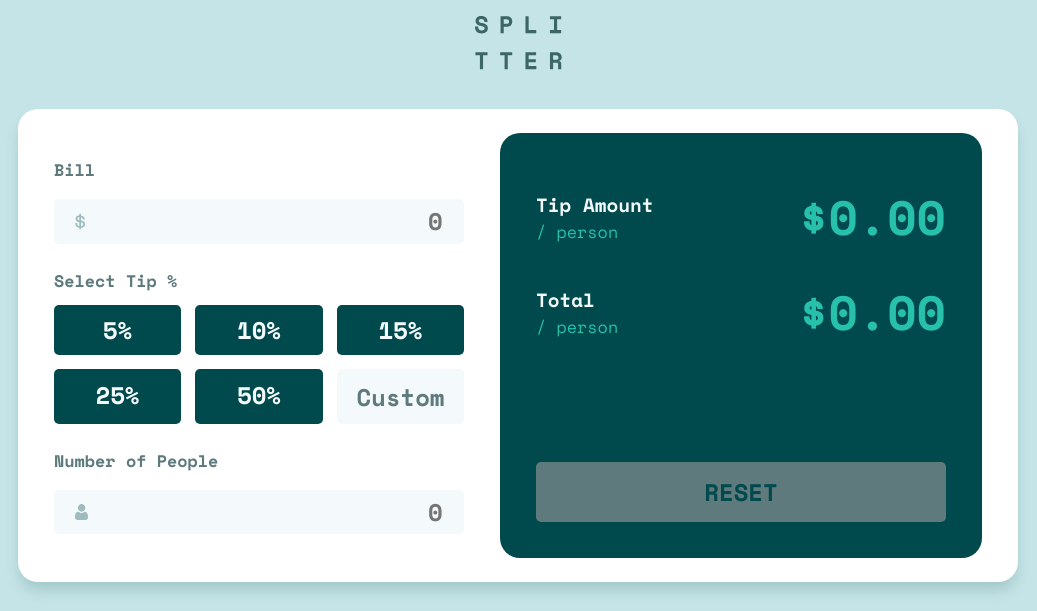
App › should return $12.50 for Tip Amount and $62.50 for Total when bill is $100, tip is 25%, and people is 2
Type "100" into the number field labelled "Bill". click: (270, 221)
box: x1=98 y1=203 x2=443 y2=239
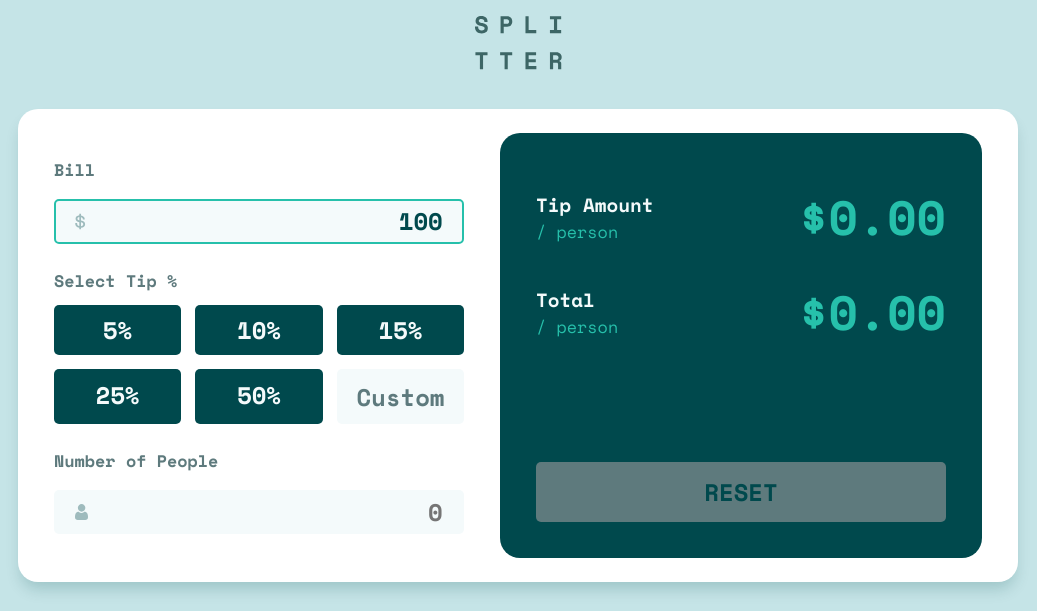
Click the button "25%". click: (118, 394)
box: x1=61 y1=376 x2=174 y2=412
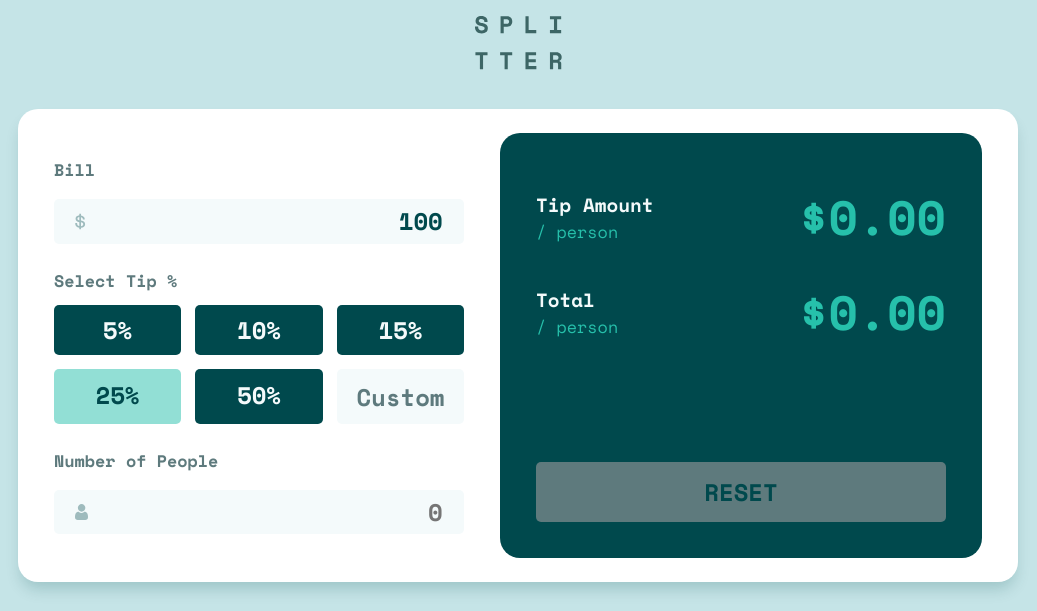
Type "2" into the number field labelled "Number of People". click: (272, 512)
box: x1=100 y1=494 x2=443 y2=530
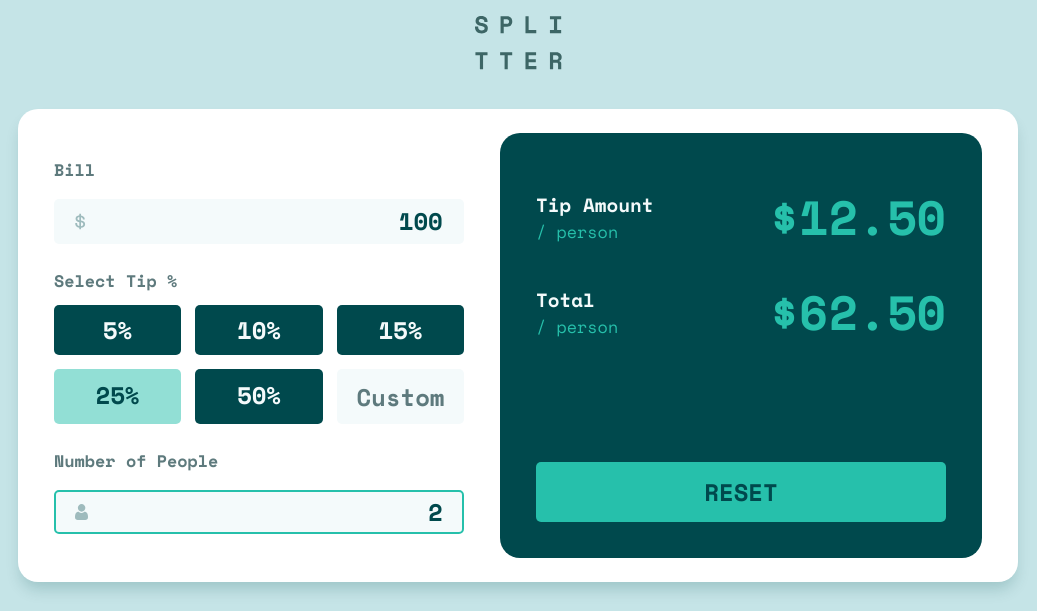
expect the text with test id "tip-amount" reads "12.50": met, box x1=799 y1=181 x2=946 y2=252
expect the text with test id "total-amount" reads "62.50": met, box x1=799 y1=276 x2=946 y2=347
